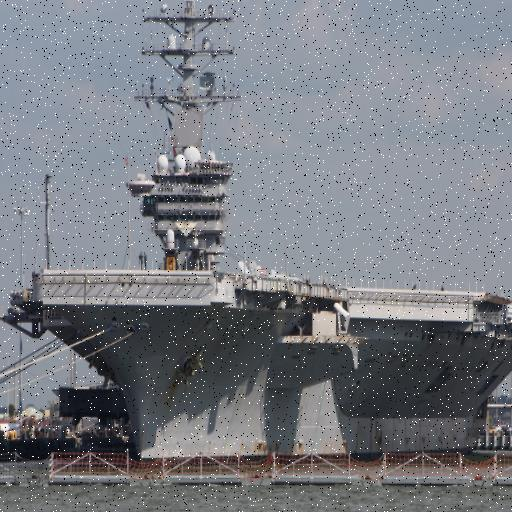Portanaves: (1, 1, 512, 472)
